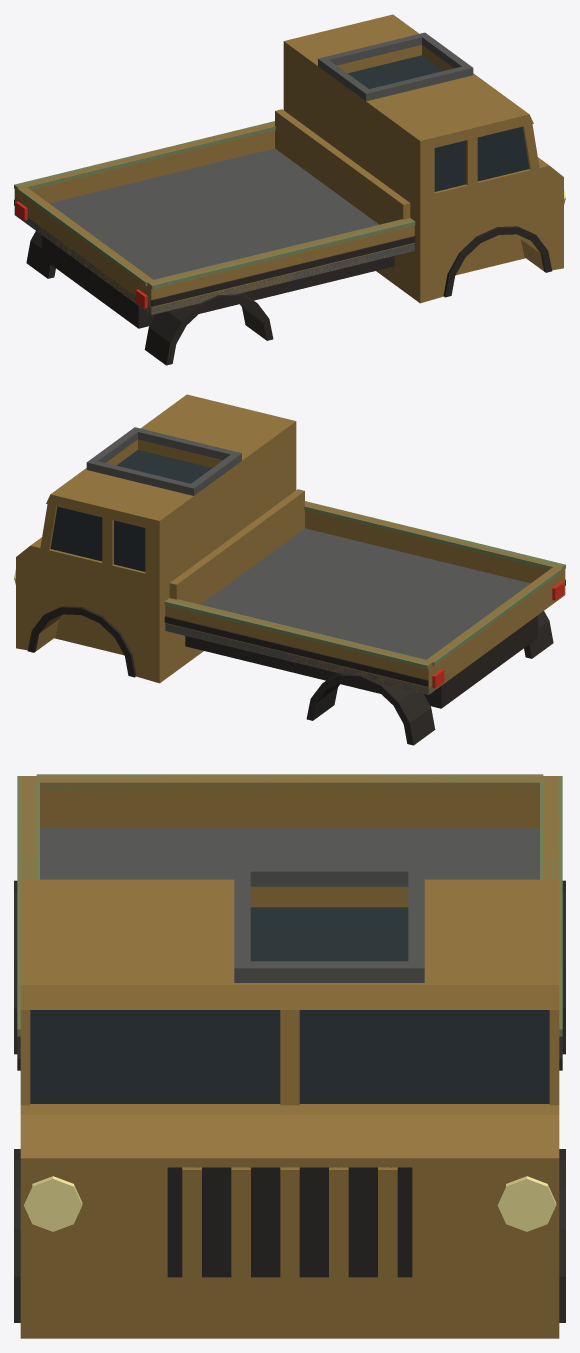
The model's file is base_hauler.glb.
3 views of the same model, one above another, from view 1: azimuth 30°, elevation 25°; view 2: azimuth 150°, elevation 25°; view 3: azimuth 270°, elevation 25° (orthographic). The views are drawn at different scales.
Parts seen in each view (by area): view 1: base_hauler; view 2: base_hauler; view 3: base_hauler.
Boxes of the visible parts, x1,y1,x2,y2 form: base_hauler: [14, 14, 565, 365]; base_hauler: [14, 394, 565, 745]; base_hauler: [14, 774, 565, 1338].
Bounding box in the file's own units: 5.85 × 2.27 × 3.39.
